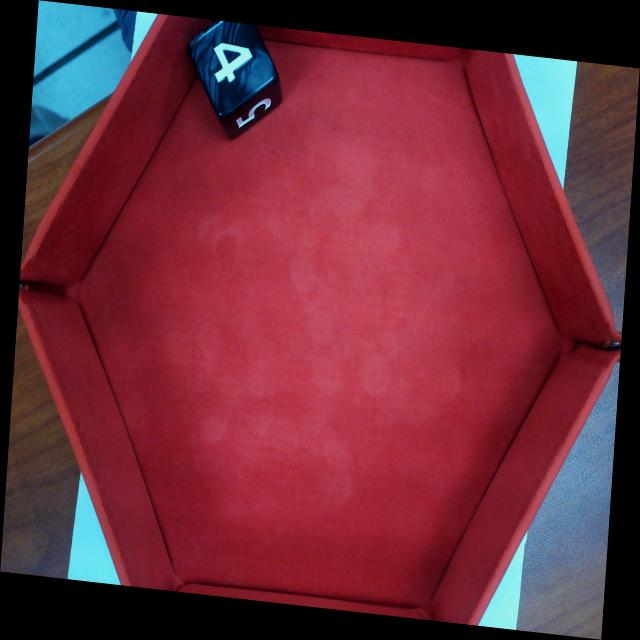dice: (189, 20, 278, 119)
